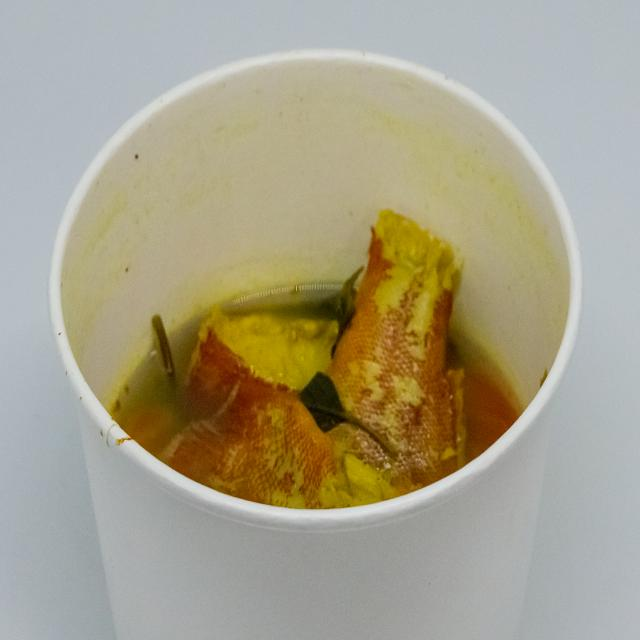Gulai-Ikan-Mas: (71, 205, 524, 539)
